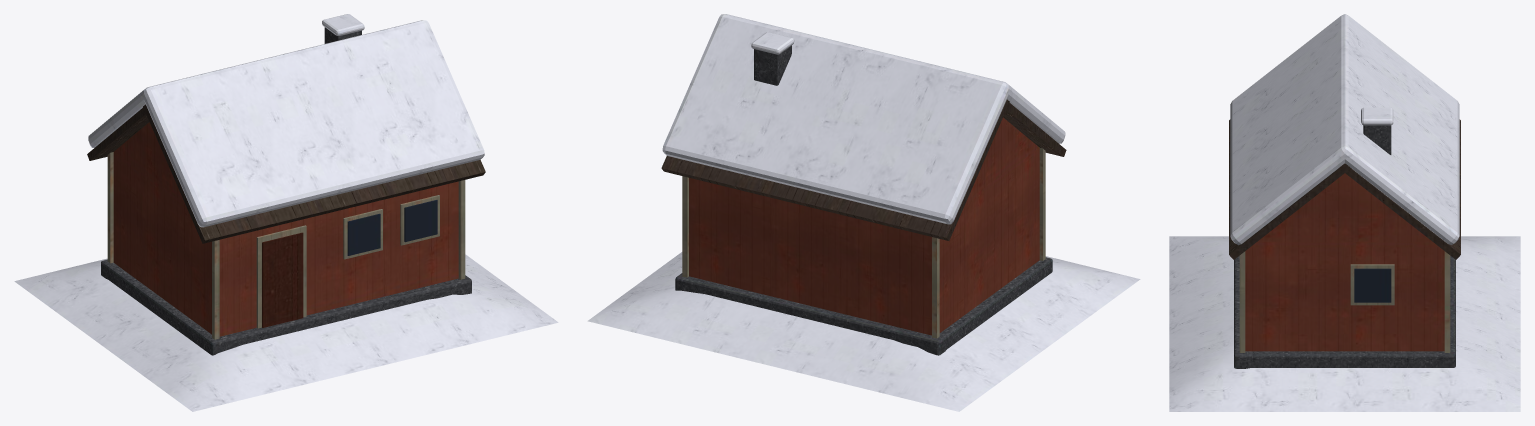
The model's file is glacier_hut.glb.
3 renders of one model, left to right at view 1: azimuth 30°, elevation 25°; view 2: azimuth 150°, elevation 25°; view 3: azimuth 270°, elevation 25°, orthographic. The views are drawn at different scales.
Parts seen in each view (by area): view 1: glacier_hut; view 2: glacier_hut; view 3: glacier_hut.
Part boxes in pixels (x1,y1,x2,y2): glacier_hut: [14, 14, 558, 411]; glacier_hut: [587, 14, 1140, 411]; glacier_hut: [1169, 14, 1520, 411].
Size of the model in its own units: 9 by 5.88 by 7.6.
1 material, 1 textured.
